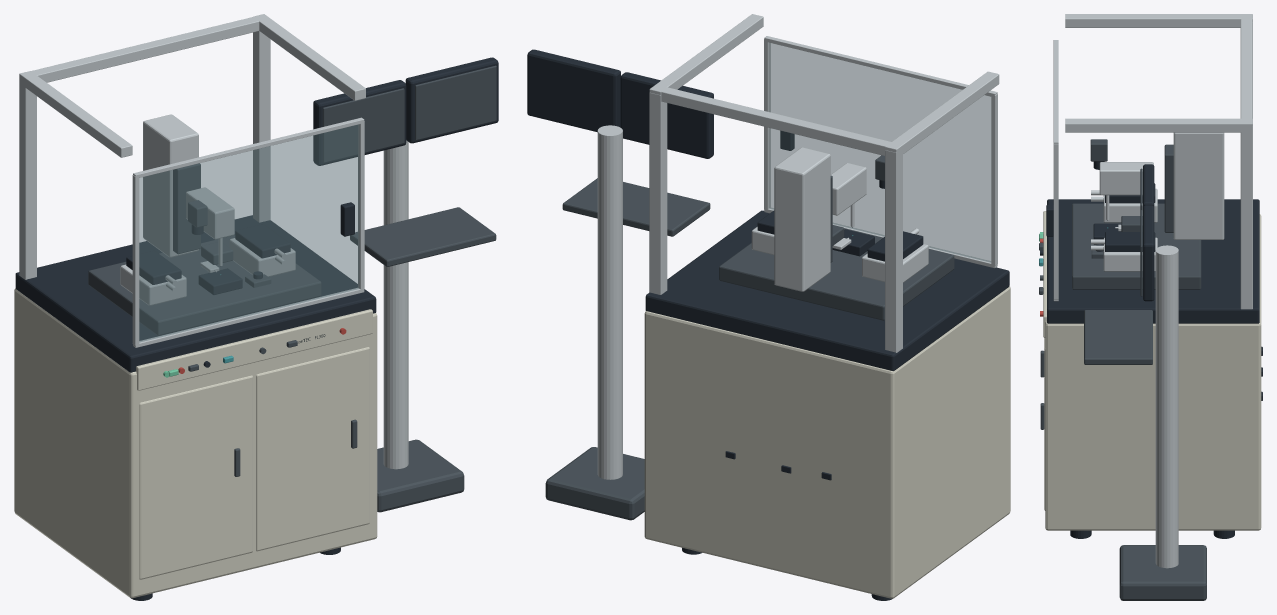
3 views of the same model, side by side, from view 1: azimuth 30°, elevation 25°; view 2: azimuth 150°, elevation 25°; view 3: azimuth 270°, elevation 25° (orthographic). The views are drawn at different scales.
Parts seen in each view (by area): view 1: main_cell Off-white powder coated cabinet, Clear virtual guard, main_cell Satin rail and guide block, main_cell Black optical plate, operator_station Anodized instrument charcoal, main_cell Anodized instrument charcoal, Workstation upright, guard_hinge Satin rail and guide block, operator_station Black optical plate, pickup_head Satin rail and guide block; view 2: main_cell Off-white powder coated cabinet, Clear virtual guard, main_cell Satin rail and guide block, main_cell Black optical plate, operator_station Black optical plate, Workstation upright, operator_station Anodized instrument charcoal, main_cell Anodized instrument charcoal, guard_hinge Satin rail and guide block, pickup_head Satin rail and guide block; view 3: main_cell Off-white powder coated cabinet, main_cell Satin rail and guide block, main_cell Black optical plate, operator_station Anodized instrument charcoal, Workstation upright, main_cell Anodized instrument charcoal, operator_station Black optical plate, pickup_head Satin rail and guide block, guard_hinge Satin rail and guide block, Receiver clamp.
Part boxes in pixels (x1,y1,x2,y2): main_cell Off-white powder coated cabinet: [14, 288, 377, 598]; Clear virtual guard: [139, 124, 359, 342]; main_cell Satin rail and guide block: [19, 14, 365, 305]; main_cell Black optical plate: [15, 215, 376, 600]; operator_station Anodized instrument charcoal: [322, 65, 496, 512]; main_cell Anodized instrument charcoal: [88, 163, 357, 476]; Workstation upright: [383, 140, 408, 469]; guard_hinge Satin rail and guide block: [132, 117, 364, 347]; operator_station Black optical plate: [313, 57, 498, 165]; pickup_head Satin rail and guide block: [186, 187, 234, 265]; main_cell Off-white powder coated cabinet: [644, 286, 1010, 598]; Clear virtual guard: [769, 43, 991, 262]; main_cell Satin rail and guide block: [649, 14, 999, 352]; main_cell Black optical plate: [645, 180, 1009, 600]; operator_station Black optical plate: [527, 49, 713, 158]; Workstation upright: [597, 125, 622, 479]; operator_station Anodized instrument charcoal: [545, 178, 710, 520]; main_cell Anodized instrument charcoal: [719, 155, 954, 320]; guard_hinge Satin rail and guide block: [764, 36, 997, 268]; pickup_head Satin rail and guide block: [830, 163, 866, 226]; main_cell Off-white powder coated cabinet: [1043, 211, 1261, 530]; main_cell Satin rail and guide block: [1065, 14, 1252, 309]; main_cell Black optical plate: [1040, 161, 1262, 538]; operator_station Anodized instrument charcoal: [1084, 168, 1206, 600]; Workstation upright: [1155, 245, 1178, 568]; main_cell Anodized instrument charcoal: [1040, 139, 1201, 429]; operator_station Black optical plate: [1143, 164, 1154, 301]; pickup_head Satin rail and guide block: [1099, 162, 1153, 219]; guard_hinge Satin rail and guide block: [1053, 40, 1058, 301]; Receiver clamp: [1121, 216, 1142, 231].
Bounding box in the file's own units: 1.64 × 1.71 × 0.818.
